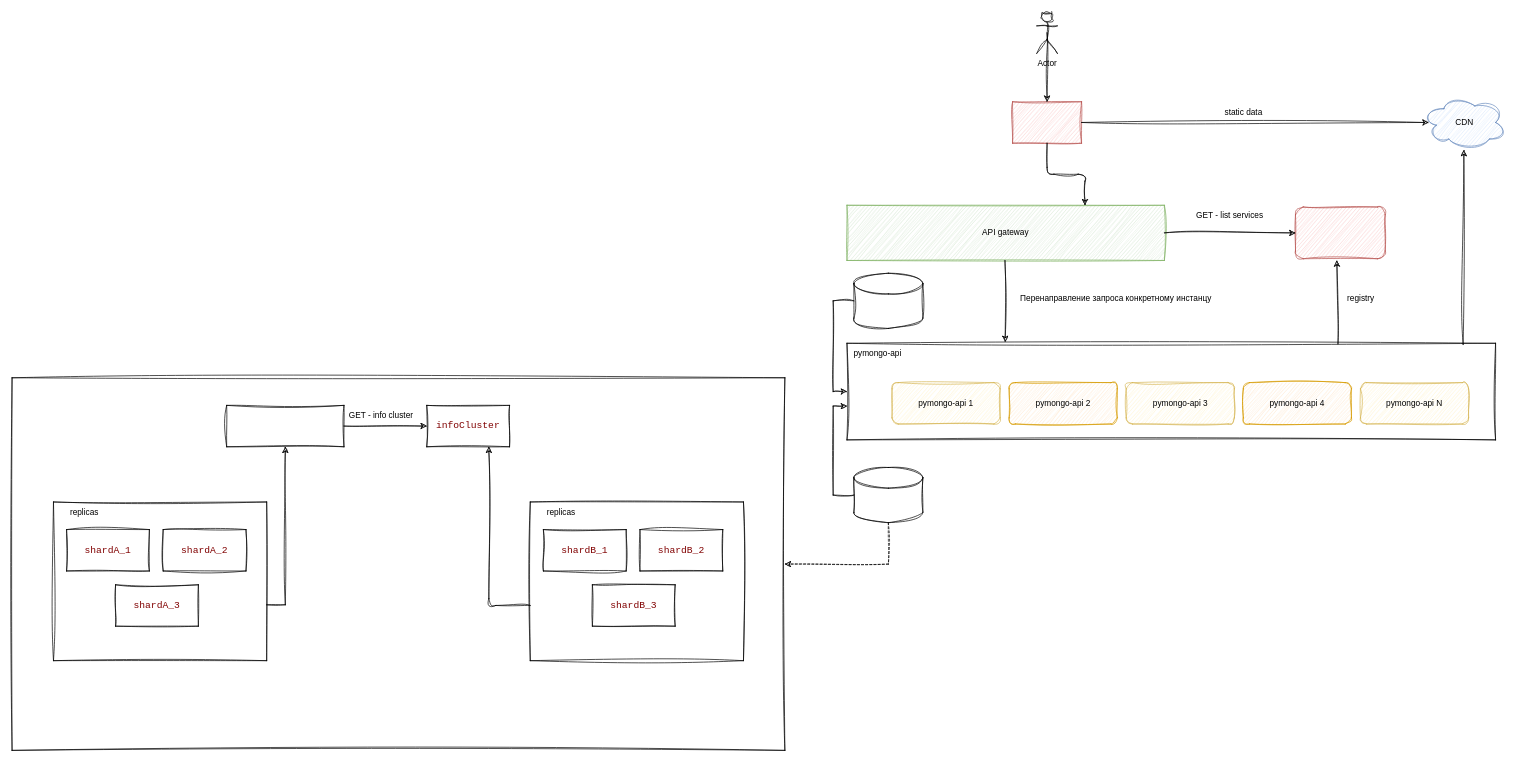
Some shapes in this 1518 by 762 pixel diagram are drawn without their labels. Here are the shapes that lost their labels. From the top down, the centre of each, then its label:
the point at 1047,122: Front
the point at 1340,232: Consul
the point at 888,300: redis
the point at 285,426: mongo_router
the point at 888,495: mongo
